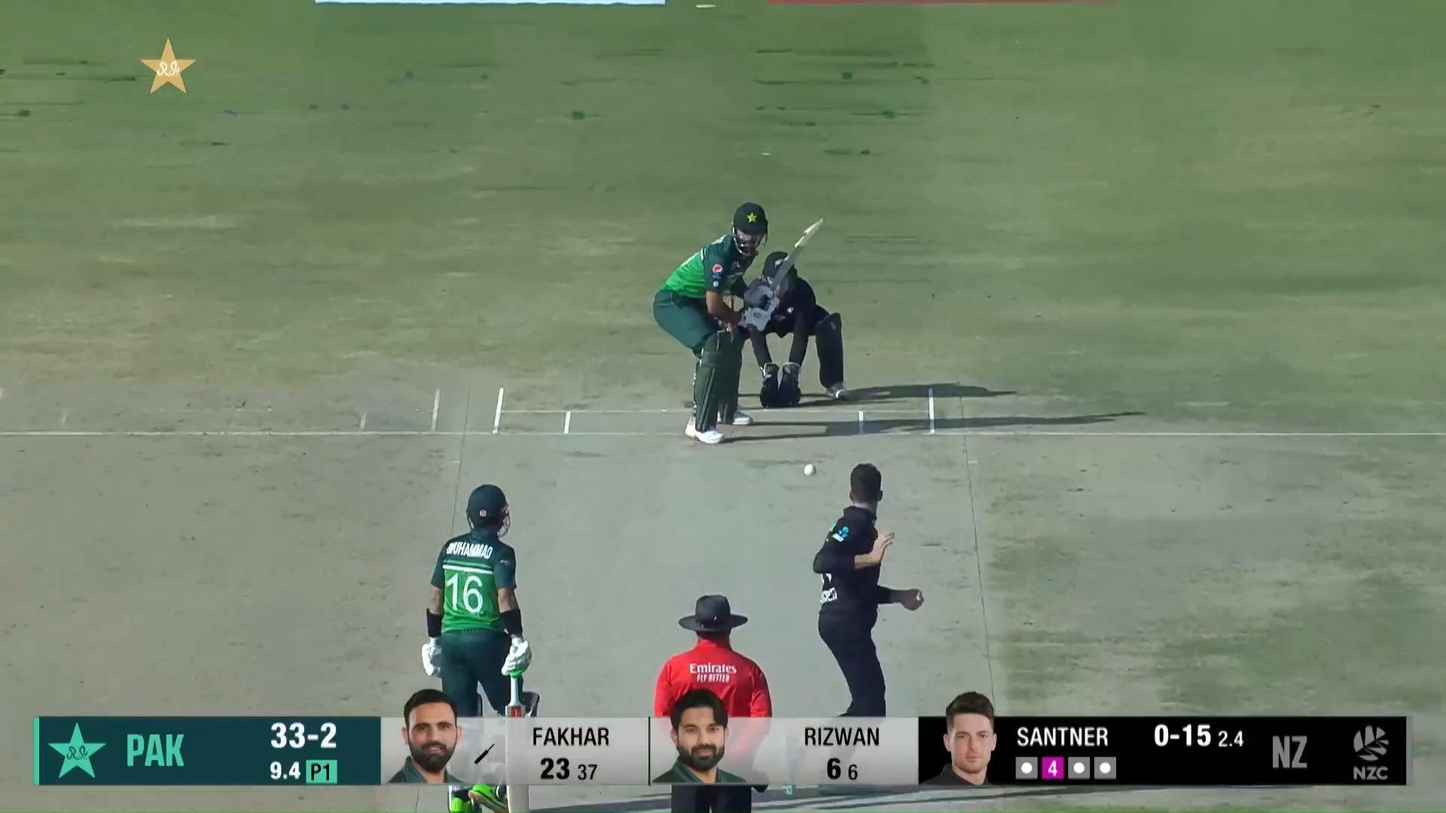BM 1: (651, 201, 828, 445)
BO: (811, 461, 925, 718)
